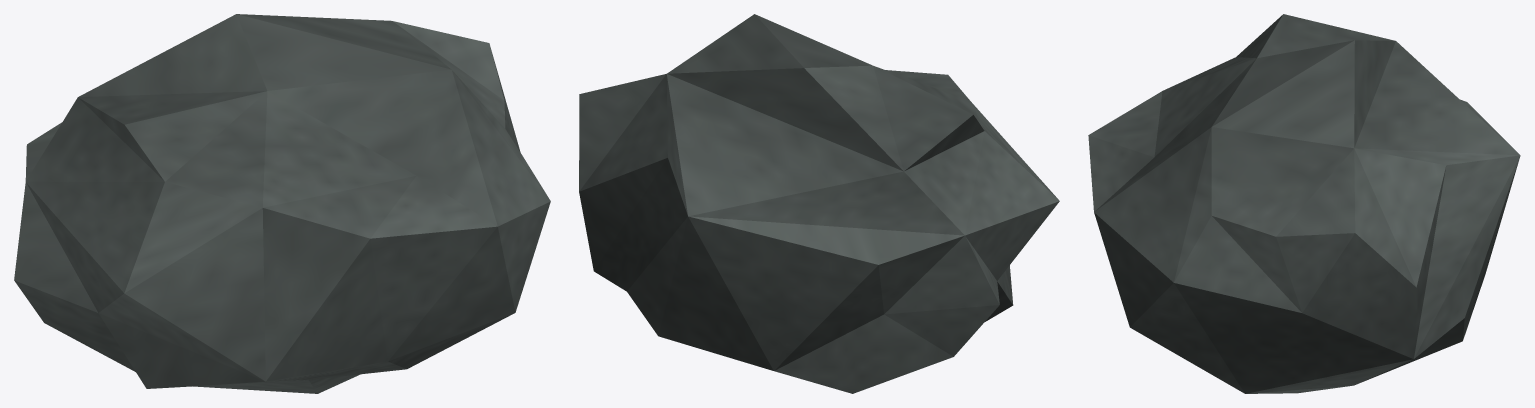
The model's file is rocks.boulder.lod2.glb.
3 views of the same model, side by side, from view 1: azimuth 30°, elevation 25°; view 2: azimuth 150°, elevation 25°; view 3: azimuth 270°, elevation 25° (orthographic). The views are drawn at different scales.
Visible parts, largest first — view 1: Boulder; view 2: Boulder; view 3: Boulder.
Boxes of the visible parts, bbox=[...] form: Boulder: bbox=[14, 14, 550, 393]; Boulder: bbox=[579, 14, 1059, 393]; Boulder: bbox=[1088, 14, 1520, 393].
Bounding box in the file's own units: 2.96 × 2.19 × 2.59.
1 material, 1 textured.
